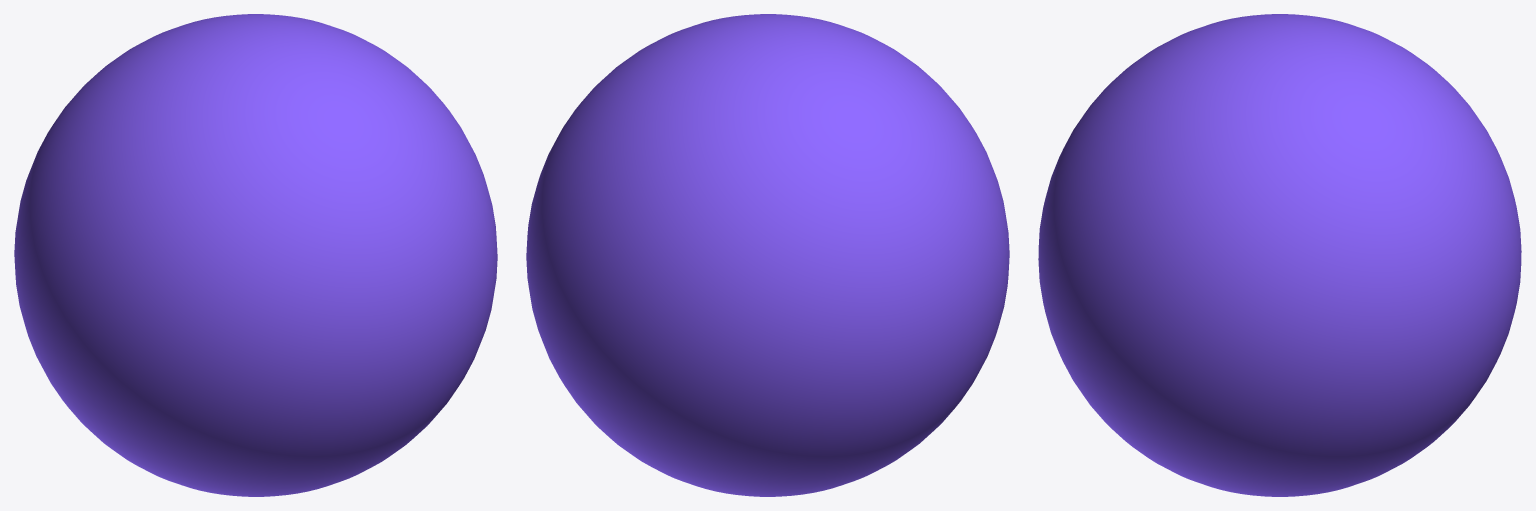
Rendered from earth.glb.
The picture shows the model from 3 angles, left to right: view 1: azimuth 30°, elevation 25°; view 2: azimuth 150°, elevation 25°; view 3: azimuth 270°, elevation 25°; orthographic projection.
Visible parts, largest first — view 1: Sphere.002; view 2: Sphere.002; view 3: Sphere.002.
Boxes of the visible parts, x1,y1,x2,y2 form: Sphere.002: (14, 14, 497, 496); Sphere.002: (526, 14, 1009, 496); Sphere.002: (1038, 14, 1521, 496).
Size of the model in its own units: 2.03 by 2.03 by 2.03.
